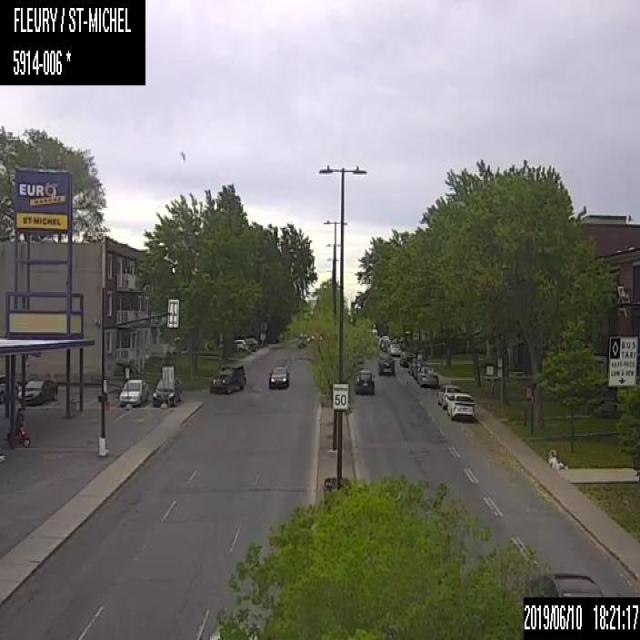vehicle: (524, 571, 604, 596), (17, 372, 56, 405), (210, 363, 245, 393), (118, 377, 150, 406), (151, 378, 181, 405), (445, 393, 474, 420), (435, 380, 460, 407), (267, 362, 288, 387), (356, 368, 374, 393), (418, 367, 439, 388), (376, 356, 396, 376), (399, 349, 414, 366), (388, 342, 399, 355), (296, 333, 306, 347)
